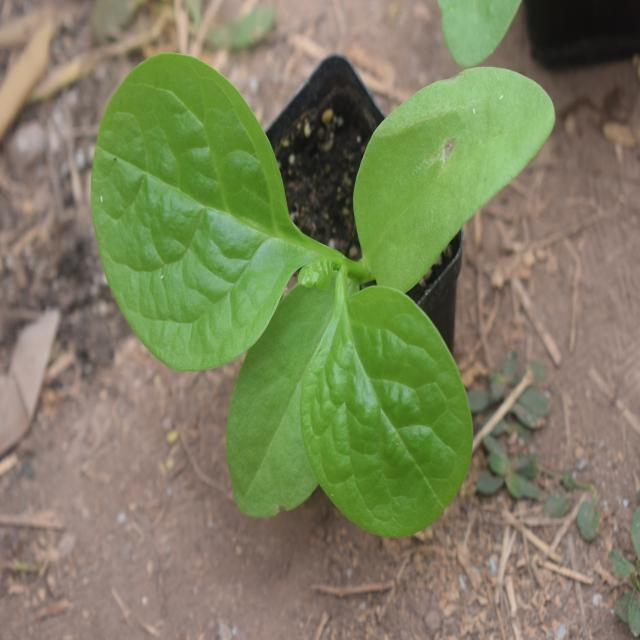Ceylon spinach: (104, 20, 567, 552)
